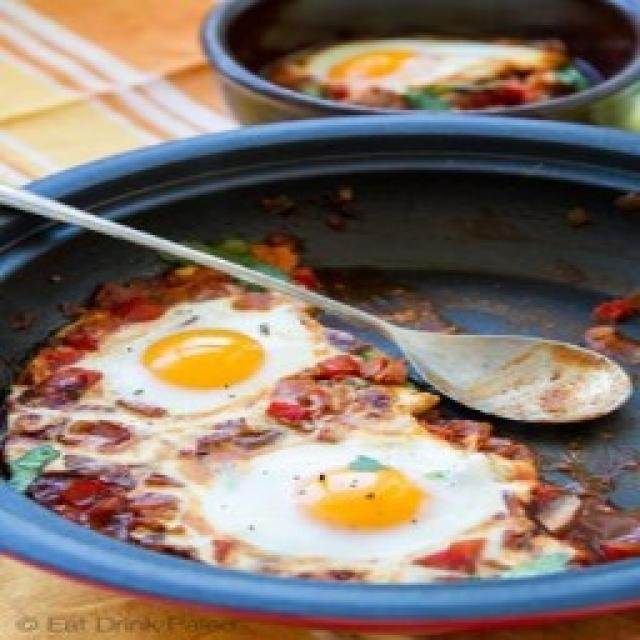Chakchouka: (0, 115, 640, 640)
